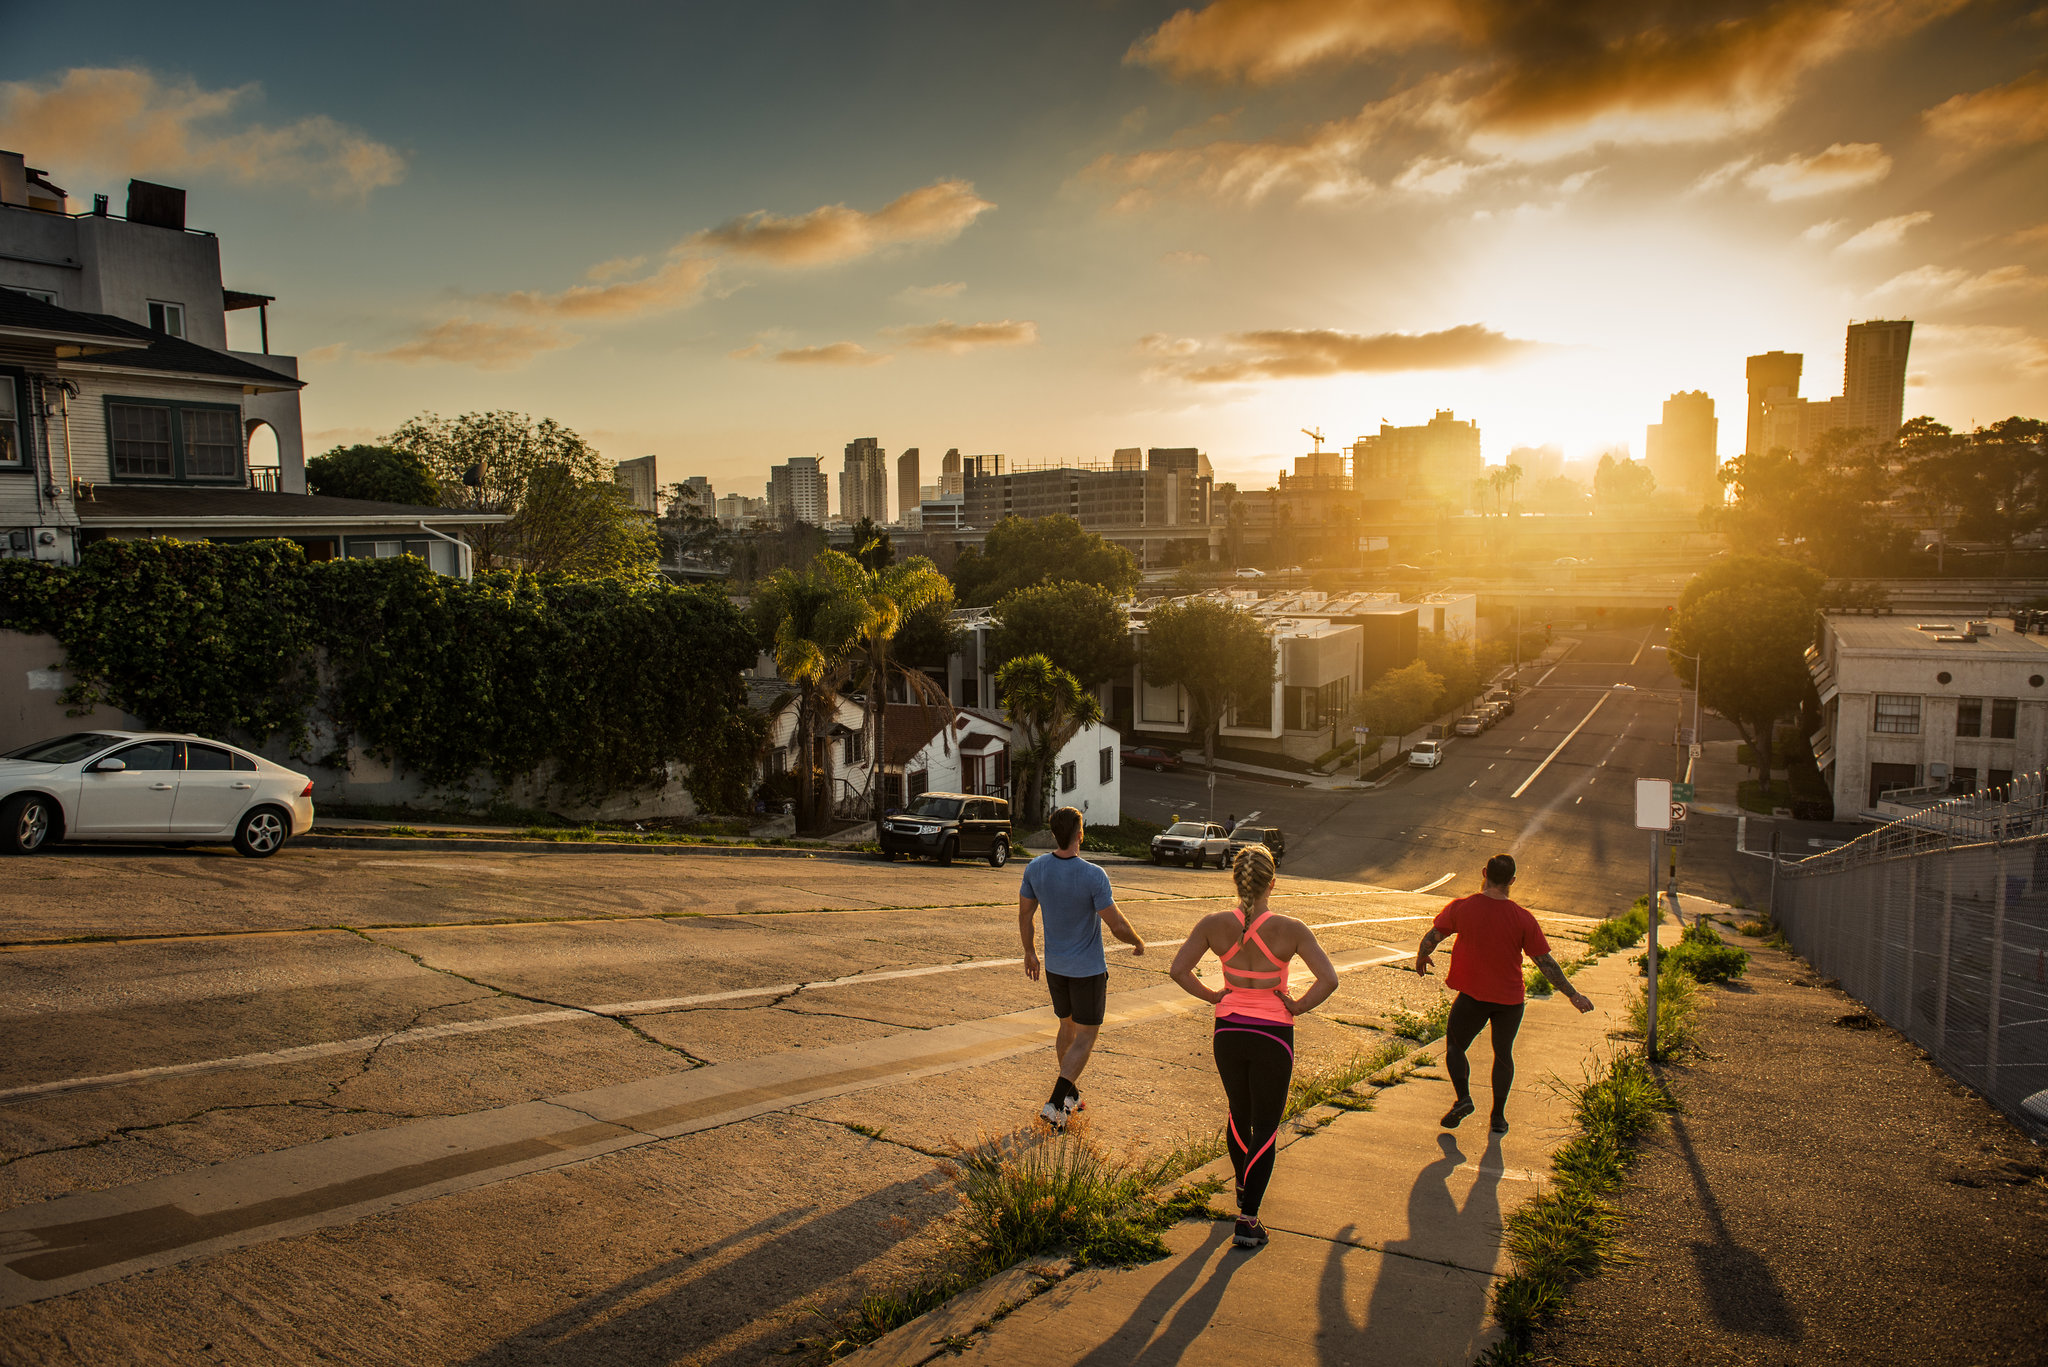person: (1412, 848, 1598, 1136), (1017, 804, 1148, 1135)
